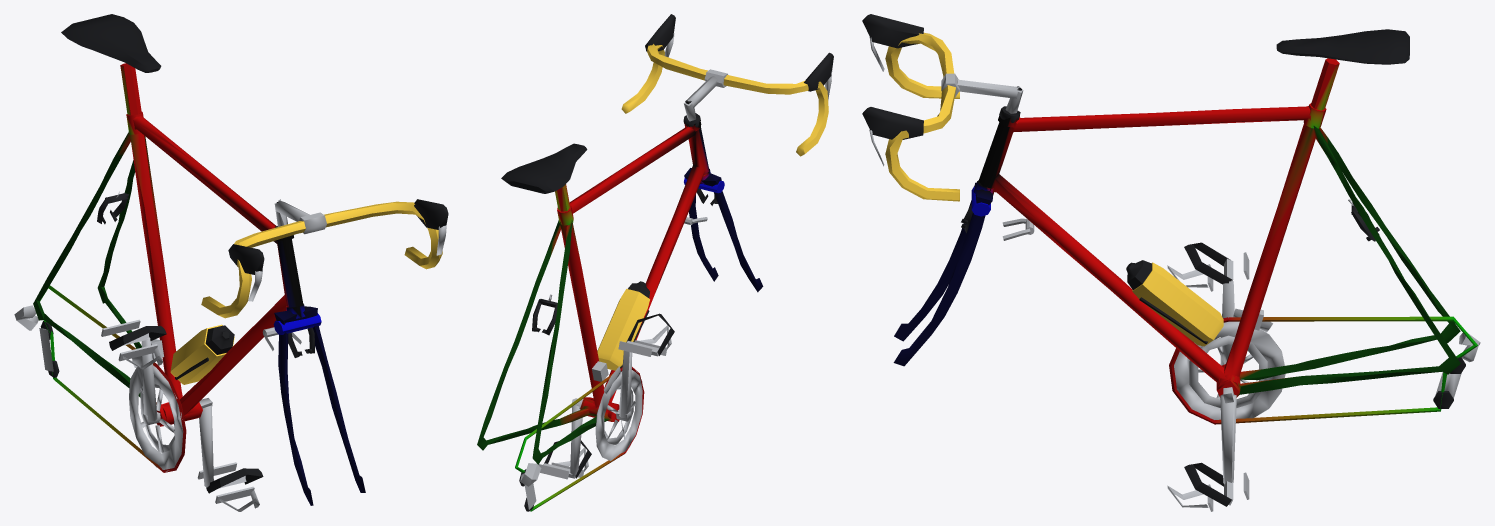
Rendered from steel_lod1.glb.
3 renders of one model, left to right at view 1: azimuth 30°, elevation 25°; view 2: azimuth 150°, elevation 25°; view 3: azimuth 270°, elevation 25°, orthographic. The views are drawn at different scales.
Parts seen in each view (by area): view 1: frame, cockpit, crankset, saddle, opt_bottles, opt_derailleur, opt_toeclips_L, opt_brakes_rim, opt_toeclips_R, pedal_R, pedal_L; view 2: frame, cockpit, crankset, opt_bottles, saddle, opt_derailleur, opt_brakes_rim, opt_toeclips_R, pedal_R, pedal_L; view 3: frame, cockpit, crankset, opt_bottles, saddle, opt_derailleur, opt_toeclips_L, opt_toeclips_R.
Boxes of the visible parts, x1,y1,x2,y2 form: frame: (33,63,365,505); cockpit: (201,199,448,318); crankset: (129,337,213,487); saddle: (61,14,161,72); opt_bottles: (170,324,234,384); opt_derailleur: (14,305,163,377); opt_toeclips_L: (206,468,263,511); opt_brakes_rim: (97,191,314,357); opt_toeclips_R: (109,326,166,369); pedal_R: (101,319,157,361); pedal_L: (197,462,254,503); frame: (477,121,763,511); cockpit: (621,14,833,156); crankset: (570,350,642,476); opt_bottles: (597,281,649,370); saddle: (501,143,587,193); opt_derailleur: (519,361,620,511); opt_brakes_rim: (532,188,717,335); opt_toeclips_R: (626,313,674,355); pedal_R: (618,340,667,356); pedal_L: (538,462,584,479); frame: (893,58,1477,424); cockpit: (862,14,1023,201); crankset: (1174,281,1285,484); opt_bottles: (1126,260,1223,346); saddle: (1276,29,1409,64); opt_derailleur: (1233,308,1480,408); opt_toeclips_L: (1167,462,1231,507); opt_toeclips_R: (1167,242,1231,287).
Size of the model in its own units: 0.4646 by 0.8843 by 1.13.
